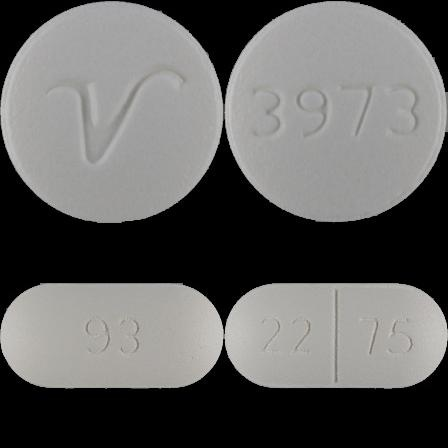33261-110: (0, 0, 224, 224)
